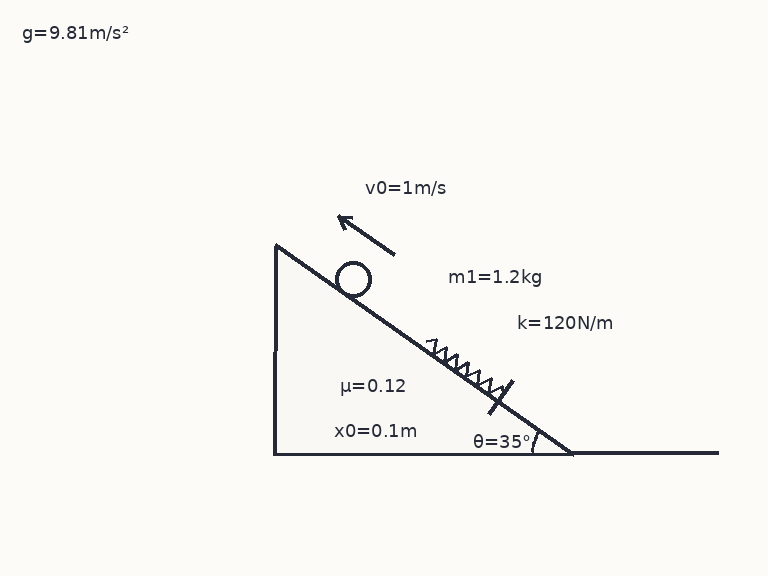ball: (333, 259, 373, 299)
ramp: (273, 244, 574, 456)
spring: (424, 337, 505, 397)
